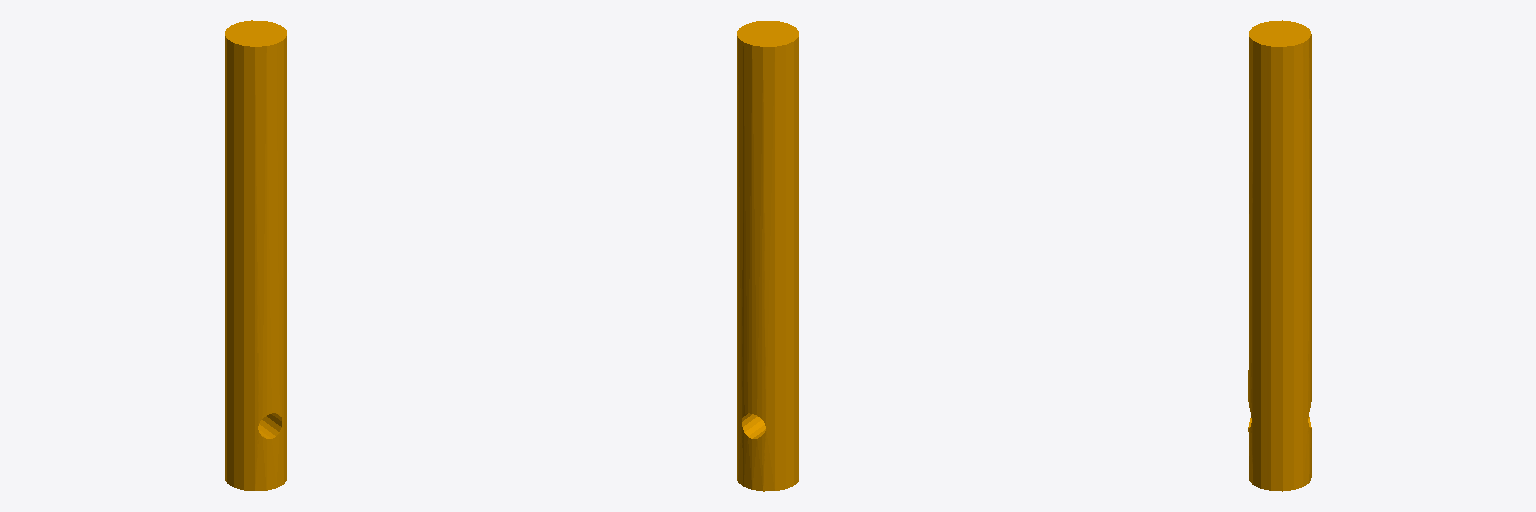
The robot description file, URDF, robot "00078_plug":
<?xml version="1.0"?>
<robot name="00078_plug">
	<link name="00078_plug">
		<visual>
			<geometry>
				<mesh filename="../mesh/00078/asset_plug.obj"/>
			</geometry>
		</visual>
		<collision>
			<geometry>
				<mesh filename="../mesh/00078/asset_plug.obj"/>
			</geometry>
			<sdf resolution="256"/>
		</collision>
	</link>
</robot>

--- Facts derived from the render (not from the file) ---
The picture shows the robot from 3 angles, left to right: view 1: azimuth 30°, elevation 25°; view 2: azimuth 150°, elevation 25°; view 3: azimuth 270°, elevation 25°; orthographic projection.
Model 00078_plug with 1 links and 0 joints (none), rooted at 00078_plug, posed every joint at zero.
Links seen in each view (by area): view 1: 00078_plug; view 2: 00078_plug; view 3: 00078_plug.
Boxes of the visible links, x1=… form: 00078_plug: x1=225, y1=20, x2=286, y2=490; 00078_plug: x1=737, y1=21, x2=798, y2=491; 00078_plug: x1=1248, y1=20, x2=1311, y2=491.
Bounding box of the posed robot: 0.0075 × 0.0075 × 0.0586 m (x, y, z).
1 mesh visuals loaded from 1 distinct referenced files (1 OBJ).
